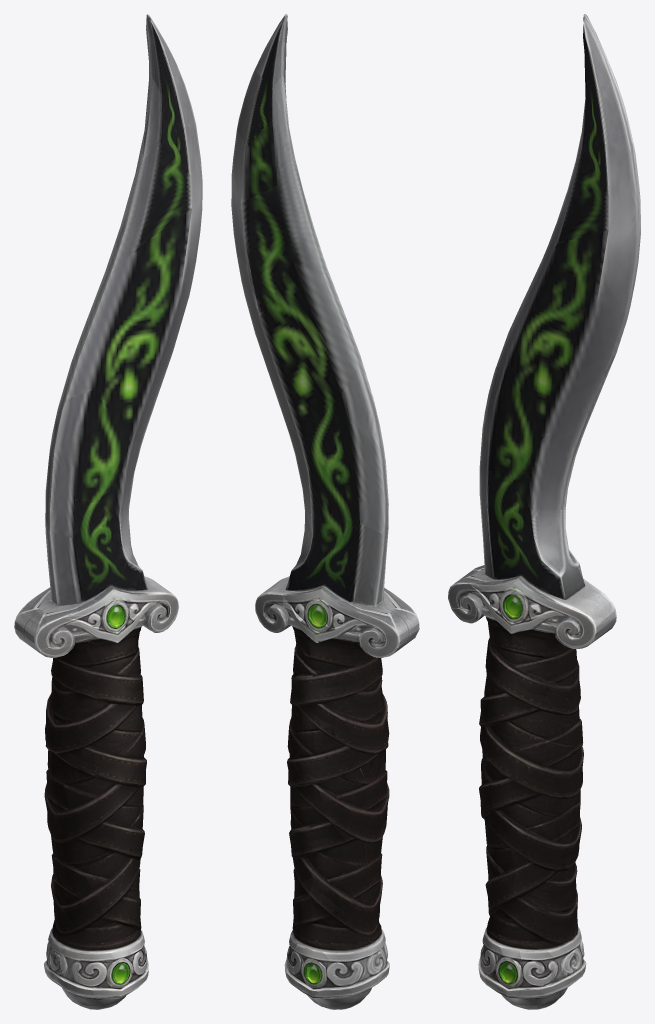
The model's file is dagger_2.glb.
3 views of the same model, side by side, from view 1: azimuth 30°, elevation 25°; view 2: azimuth 150°, elevation 25°; view 3: azimuth 330°, elevation 25° (orthographic). The views are drawn at different scales.
Parts seen in each view (by area): view 1: output_unwrapped; view 2: output_unwrapped; view 3: output_unwrapped.
Boxes of the visible parts, box(x1,y1,x2,y2) form: output_unwrapped: box(14, 14, 202, 1009); output_unwrapped: box(231, 14, 419, 1009); output_unwrapped: box(448, 14, 640, 1009).
Size of the model in its own units: 0.3566 by 1.9 by 0.1719.
1 material, 1 textured.
